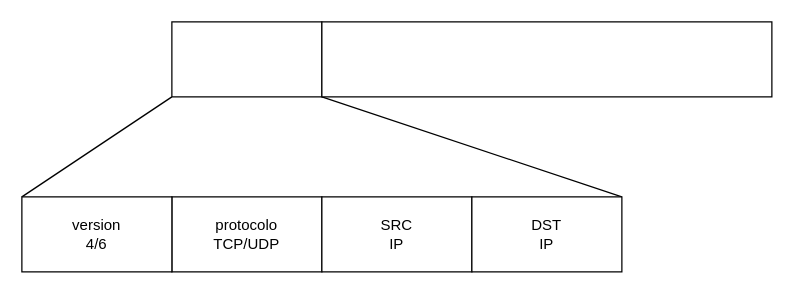
Some shapes in this 794 by 294 pixel diagram are drawn without their labels. The shapes that lost their labels are listed below. From the top down, each one's box as (x1, y1, x2, y2) in pixels, then its label:
(171, 21, 322, 97): cabecera IP
(321, 21, 772, 97): payload
